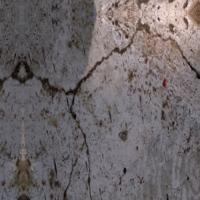crack: (37, 17, 188, 188)
